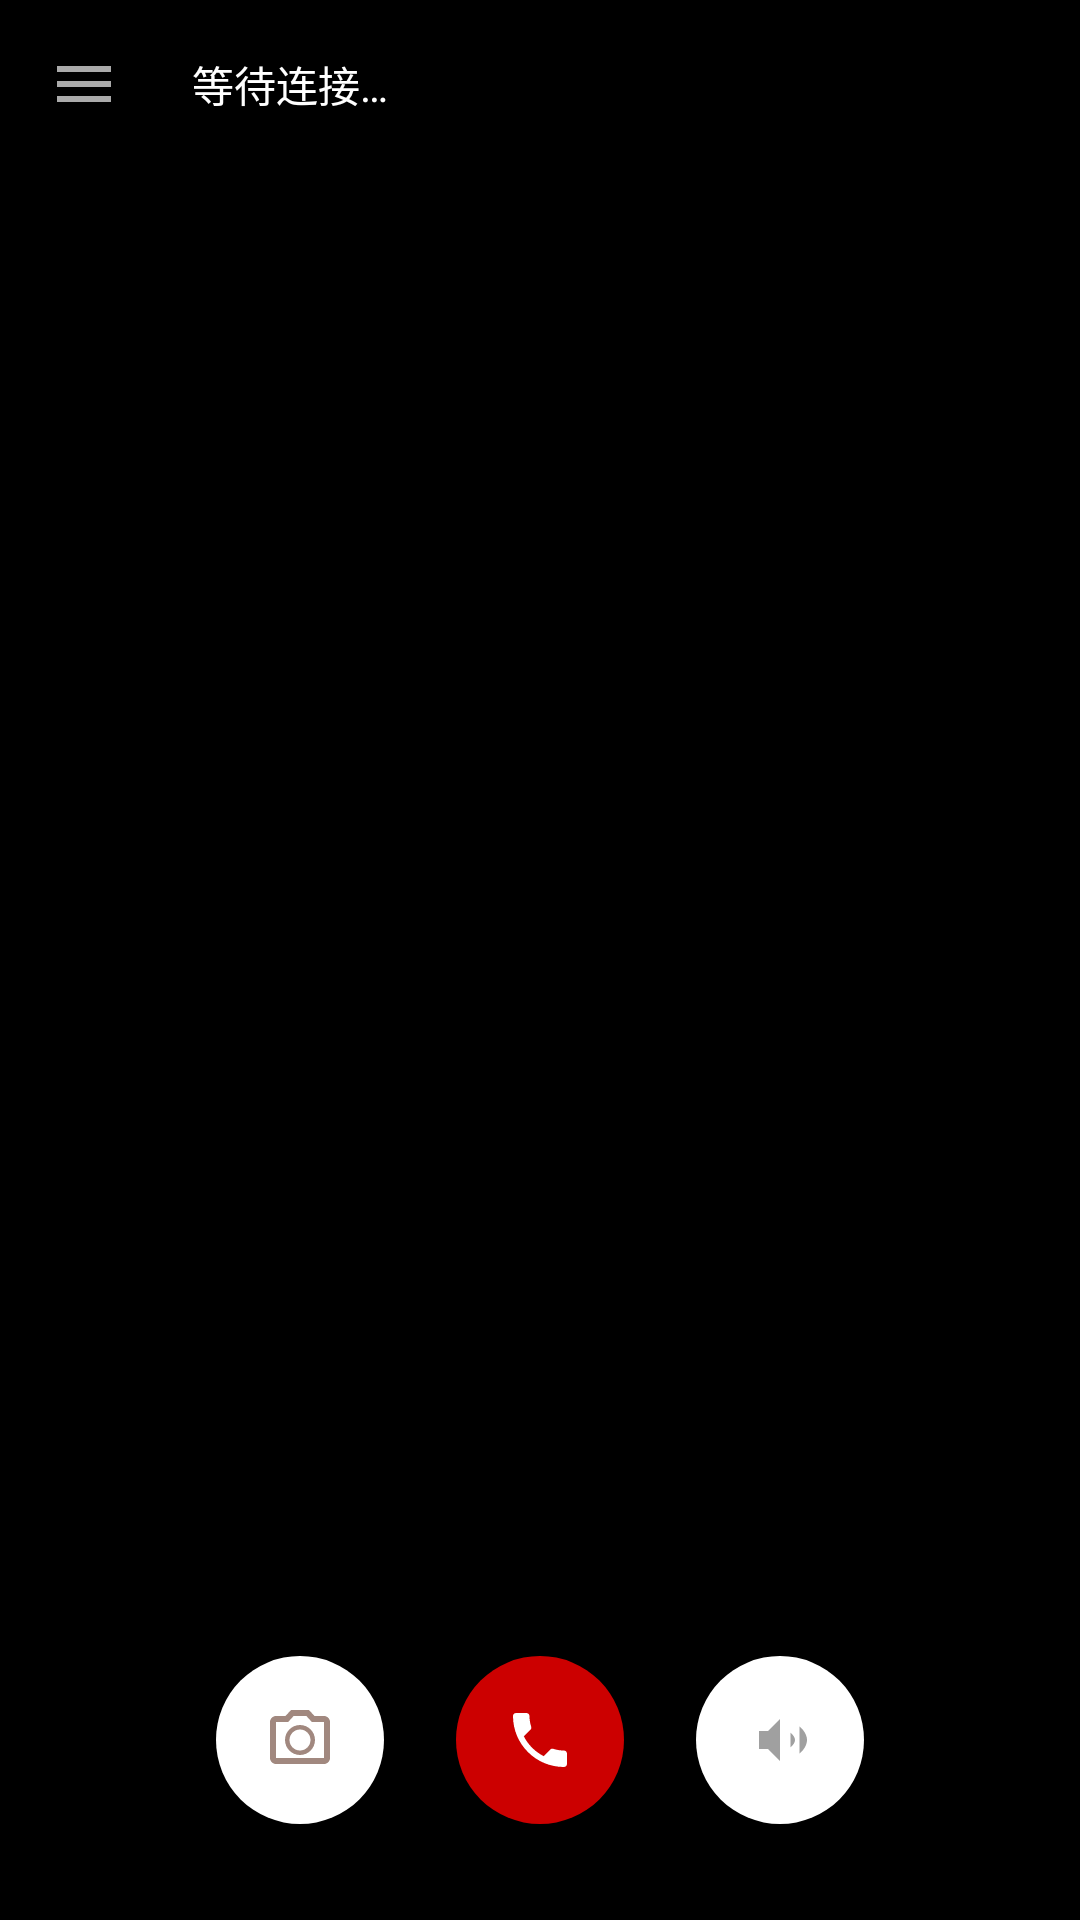

Icons on this 1080 × 1920 Android screen, each with the point to tap as (x=x, y=y):
menu: (x=84, y=84)
关闭通话: (x=540, y=1740)
切换扬声器: (x=780, y=1740)
切换摄像头: (x=300, y=1740)
